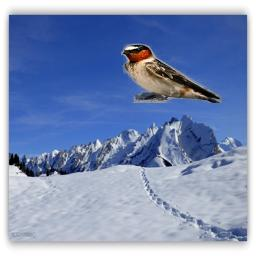Swallow: (121, 43, 223, 103)
